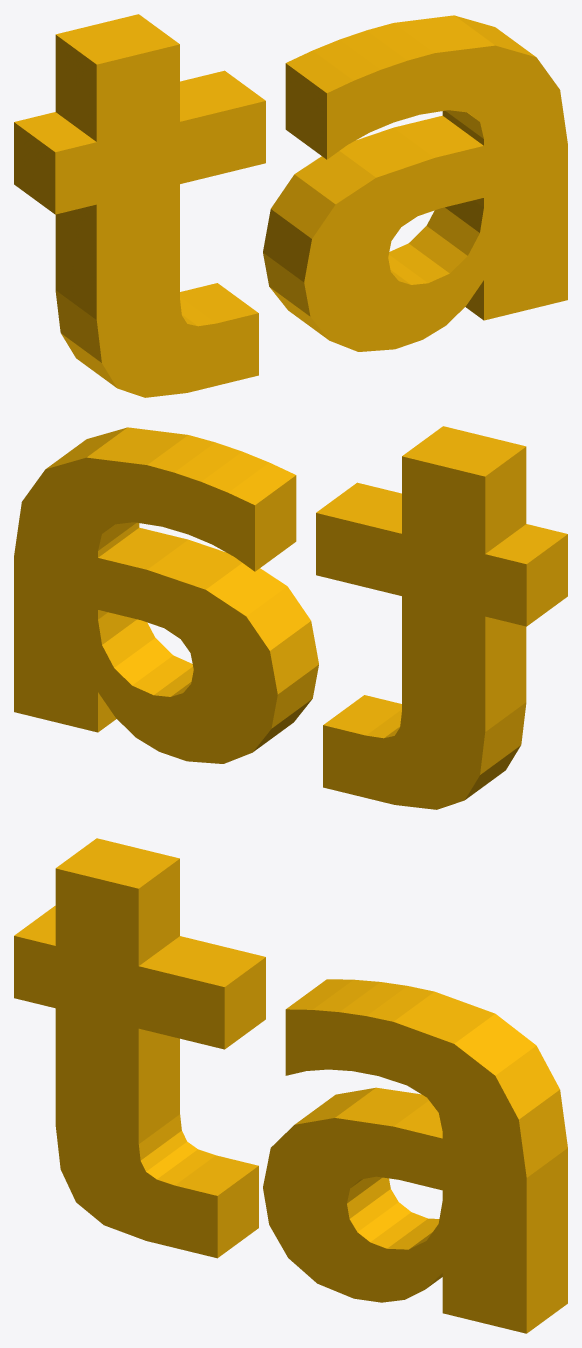
Rendered from suku_kecil_ta.glb.
3 renders of one model, top to bottom at view 1: azimuth 30°, elevation 25°; view 2: azimuth 150°, elevation 25°; view 3: azimuth 330°, elevation 25°, orthographic.
Visible parts, largest first — view 1: geometry_0; view 2: geometry_0; view 3: geometry_0.
Part boxes in pixels (x1,y1,x2,y2): geometry_0: [14, 14, 567, 397]; geometry_0: [14, 426, 567, 809]; geometry_0: [14, 838, 567, 1333].
Bounding box in the file's own units: 10.75 × 7.16 × 1.5.
